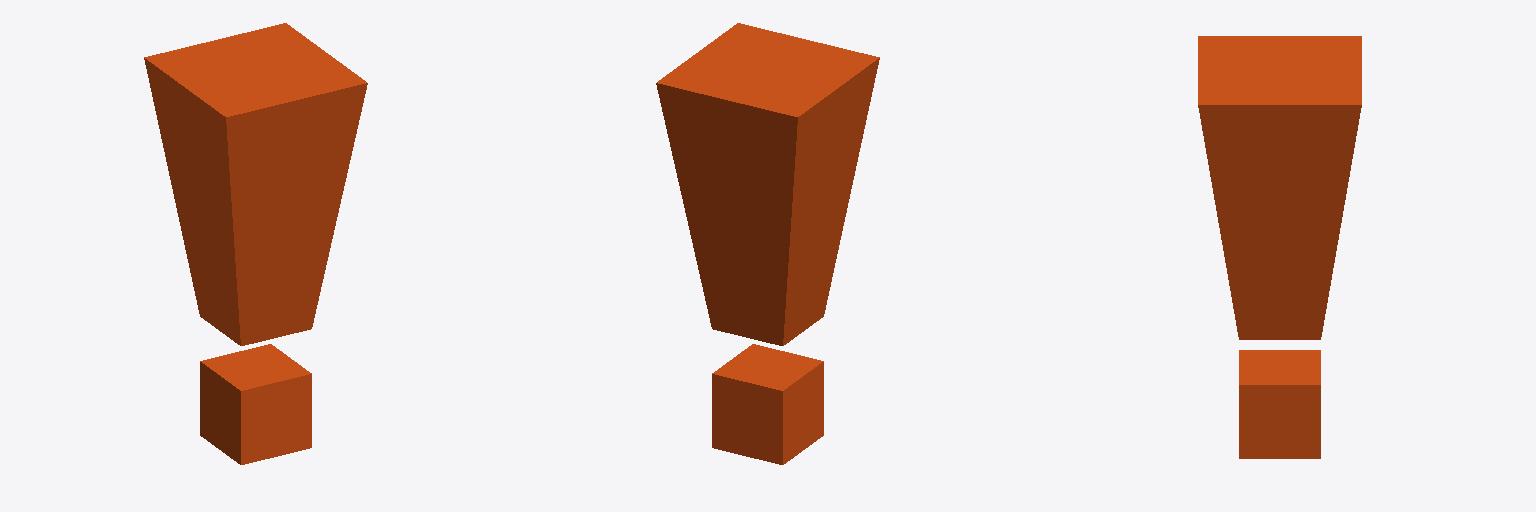
Rendered from uitroepteken.obj.
The picture shows the model from 3 angles: view 1: azimuth 30°, elevation 25°; view 2: azimuth 150°, elevation 25°; view 3: azimuth 270°, elevation 25°; orthographic projection.
Visible parts, largest first — view 1: Family1; view 2: Family1; view 3: Family1.
Boxes of the visible parts, x1=… form: Family1: x1=144, y1=23, x2=367, y2=464; Family1: x1=656, y1=23, x2=879, y2=464; Family1: x1=1198, y1=36, x2=1361, y2=458.
Size of the model in its own units: 0.5 by 1.25 by 0.5.